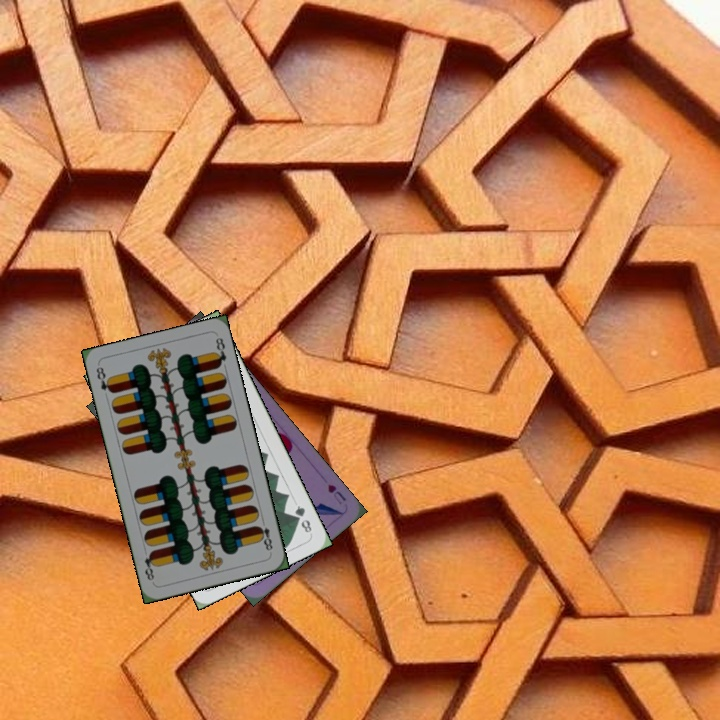E8: (253, 515, 275, 553), (92, 362, 116, 396)
G8: (291, 501, 314, 535)
HU: (323, 480, 349, 507)
